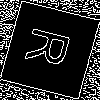R: (24, 25, 81, 72)
